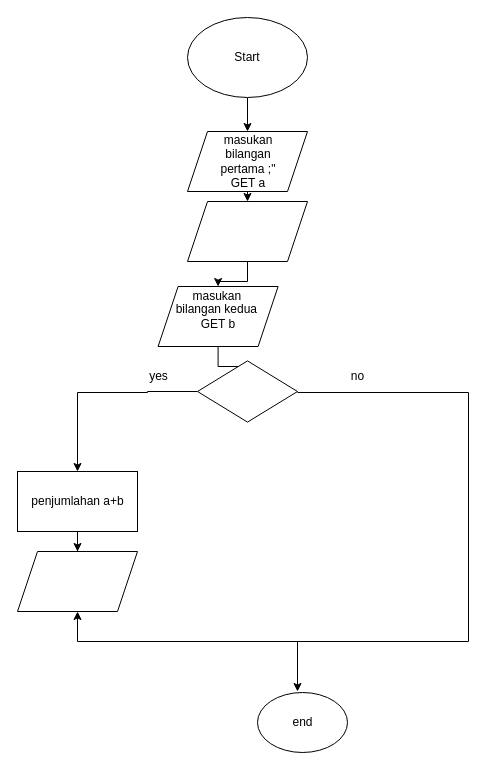
This 494x770 diagram has some shape labels left out. The shapes that lost their labels are listed below. From the top down, each one's centre as x and y in pixels, then its label:
point 247,231: masukan pilihan operasi GET pil
point 247,391: pil = "+"
point 77,581: hasil penjumahan a+b= +penjumlahan
